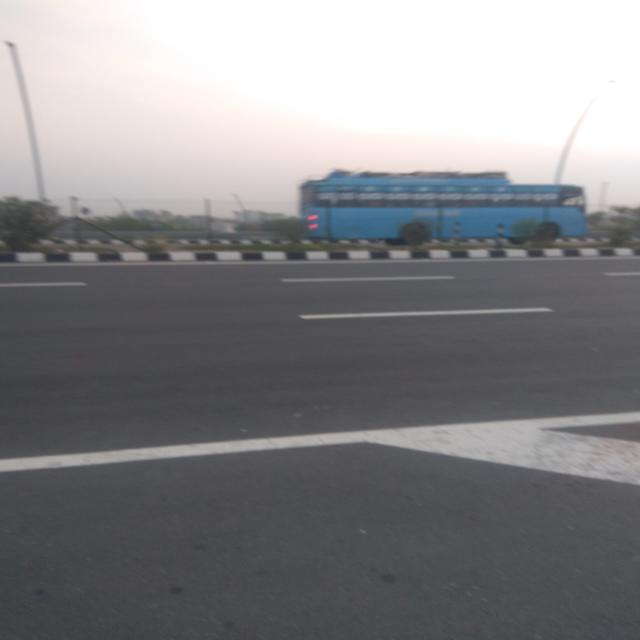Bus: (280, 149, 607, 266)
